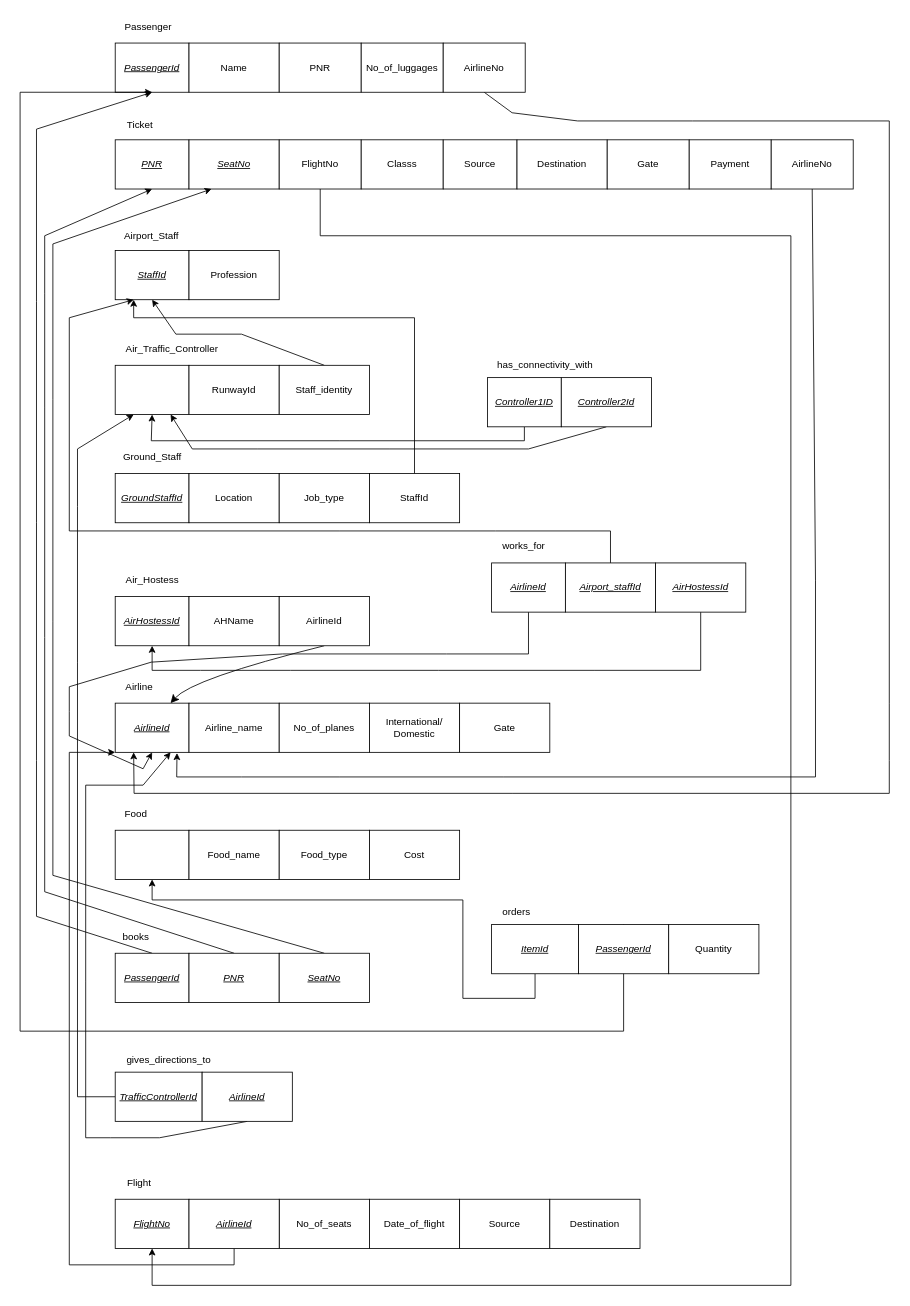
The diagram is 910 pixels wide and 1306 high, and some of its shapes have lost their labels. Here are the shapes that lost their labels. From the top down, the box of each, then its label:
(114, 364, 189, 415): ControllerId
(114, 829, 189, 879): IteamId
